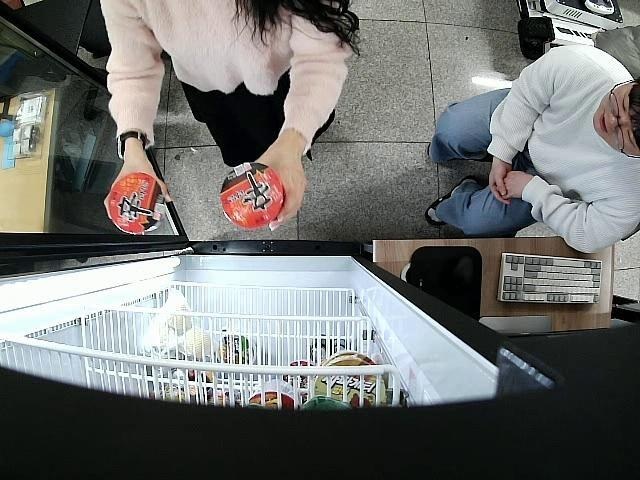02_shinRamen_S: (222, 162, 284, 228), (108, 172, 166, 234)
